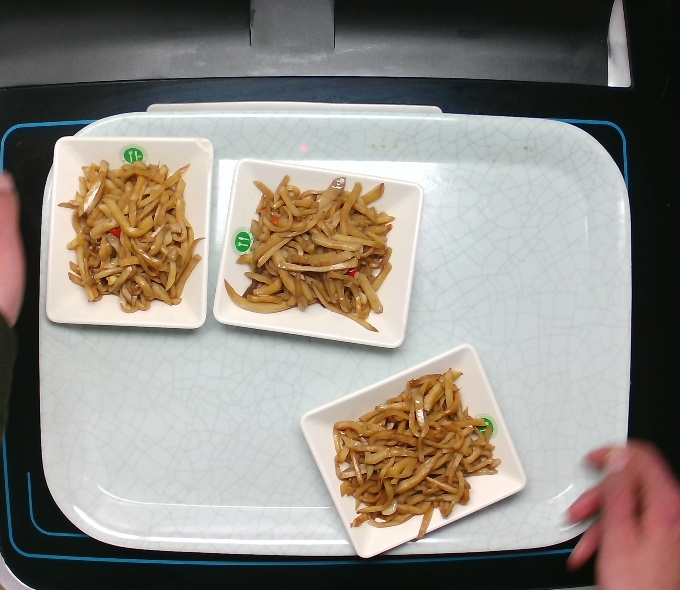wcq-LiangBanMoGu: (326, 363, 506, 543), (220, 171, 400, 338), (55, 153, 208, 316)
